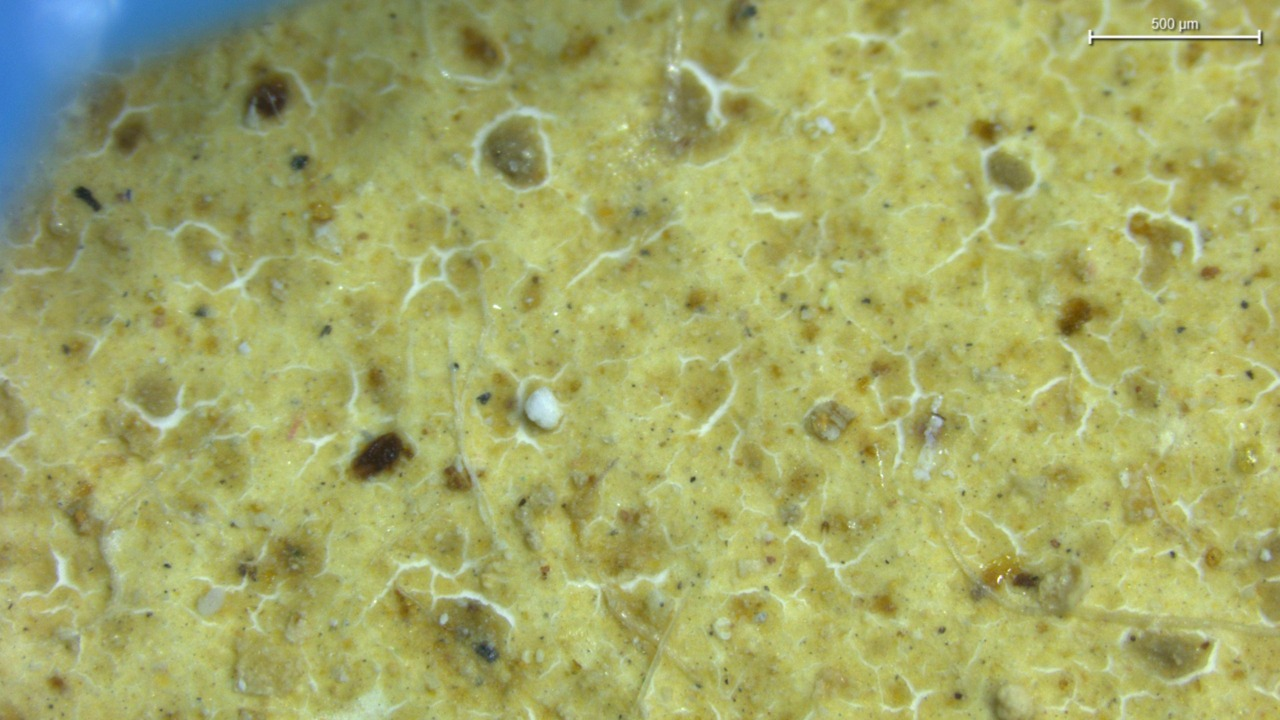microplastic_fragment: (525, 387, 562, 430)
